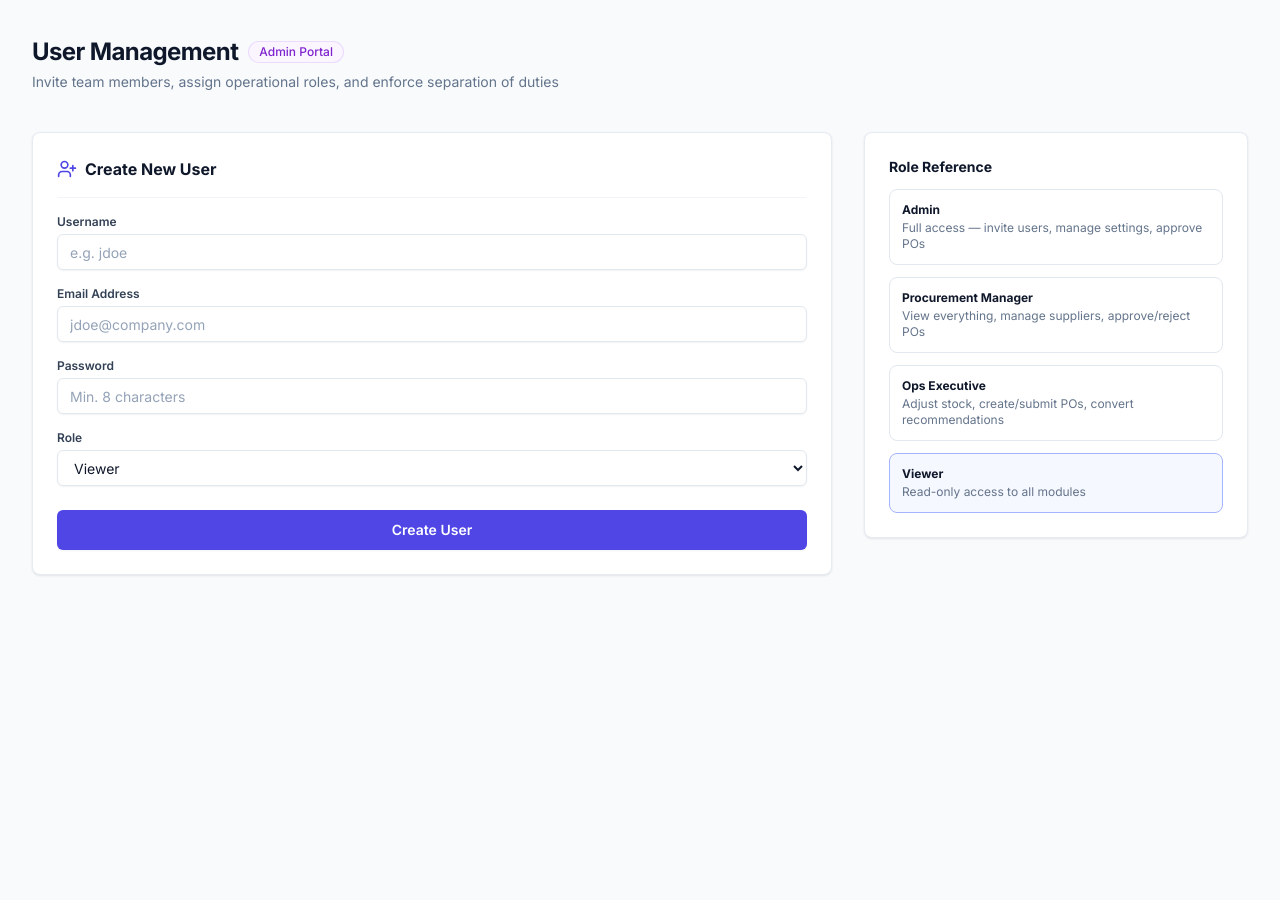
Test: AdminUserManagementPage › Form Submission › should show success message after successful creation
This screenshot has width=1280, height=900.
Type "john_doe" into the field labelled "Username".
click(432, 252); type("john_doe")  # box [57,234,807,270]
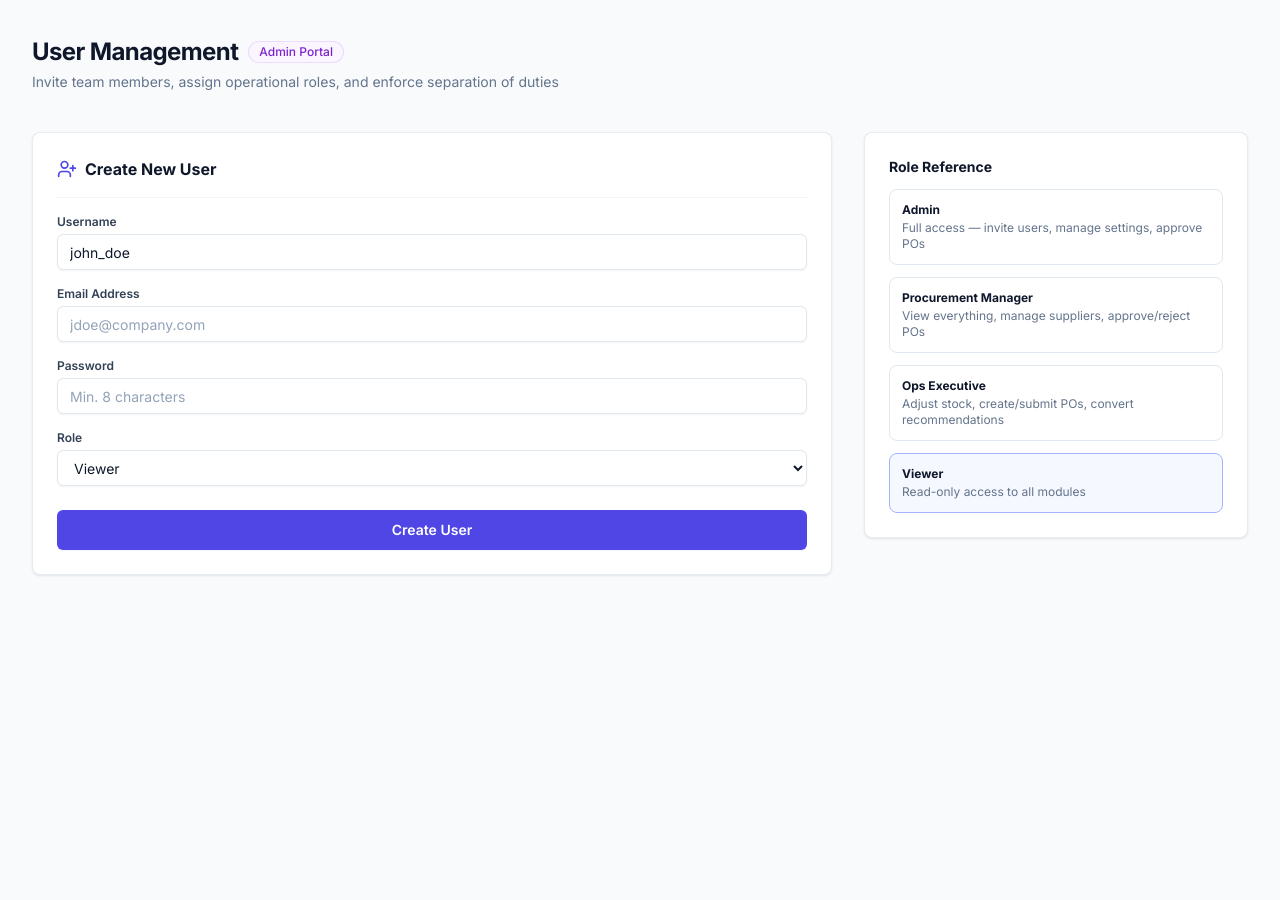
Type "john@test.com" into the field labelled "Email Address".
click(432, 324); type("john@test.com")  # box [57,306,807,342]
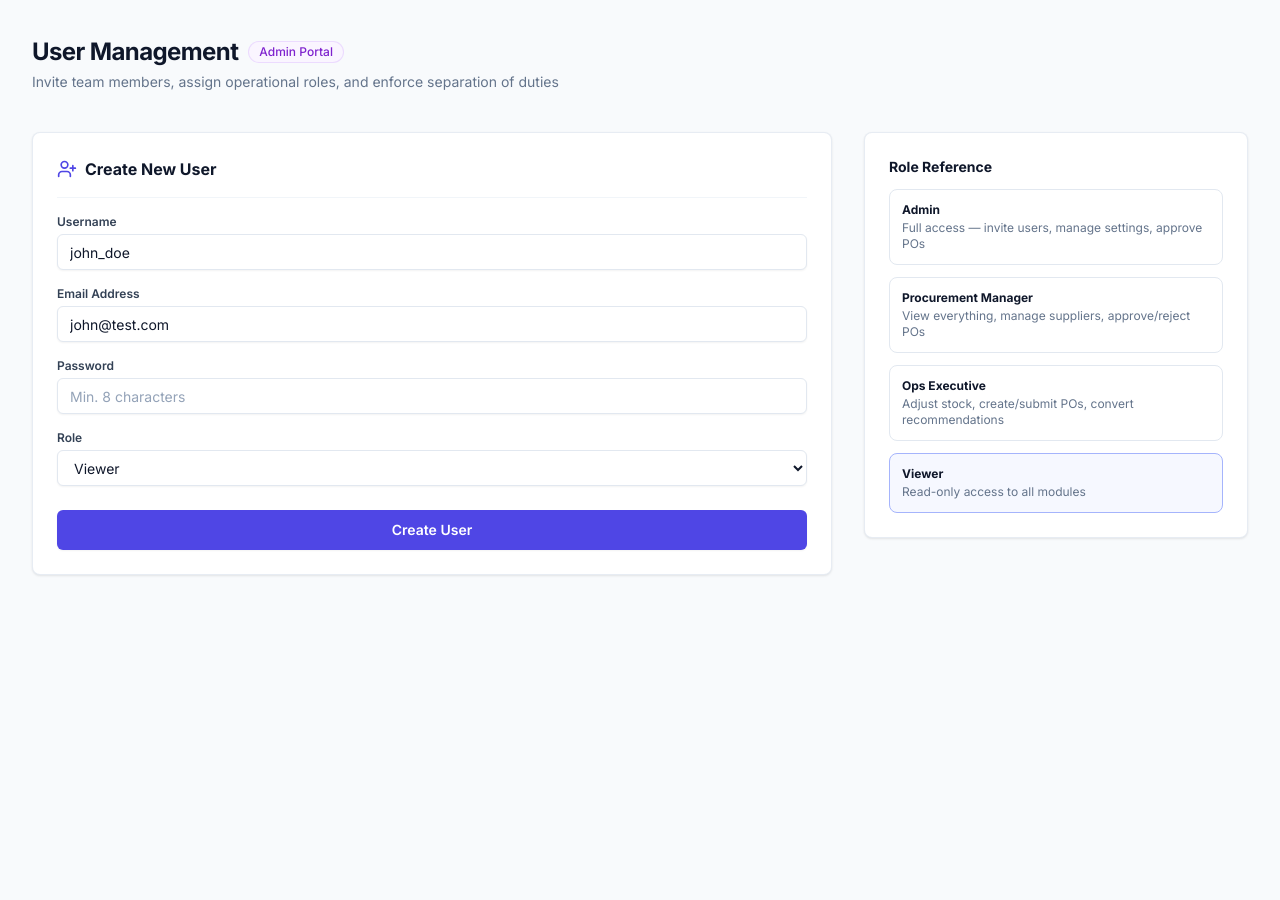
Type "Password1" into the password field labelled "Password".
click(432, 396); type("Password1")  # box [57,378,807,414]
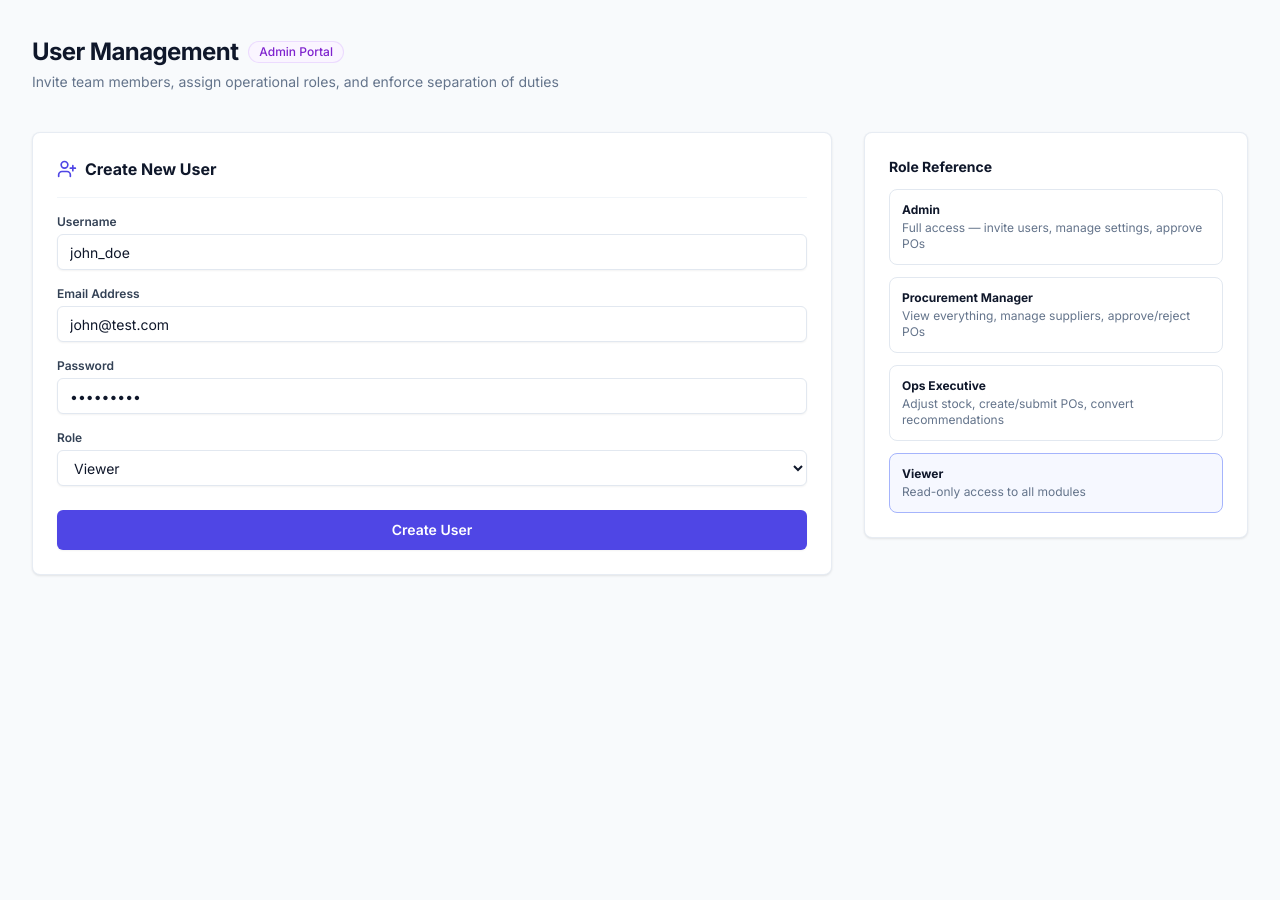
Click the button "Create User".
click(432, 530)  # box [57,510,807,550]
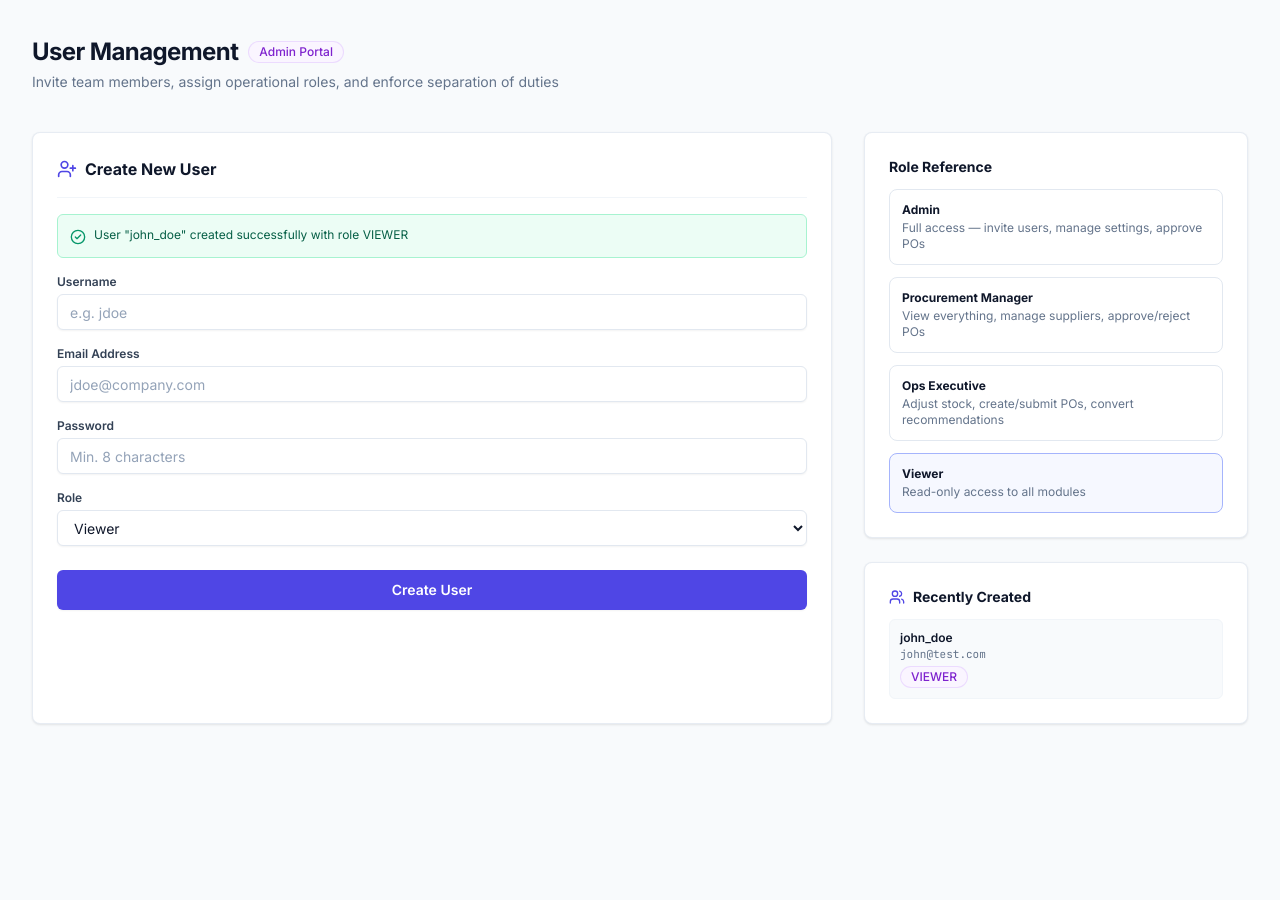
Now the text "User \"john_doe\" created successfully with role VIEWER" is shown, box [94,227,408,243]
